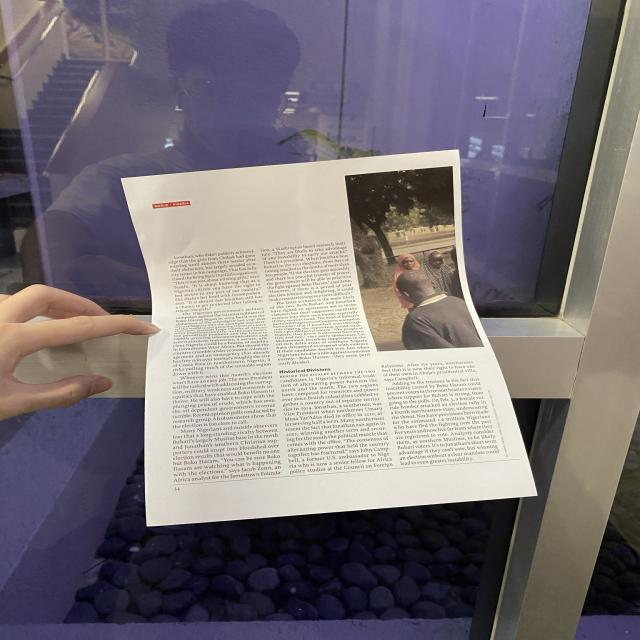document: (123, 150, 535, 525)
